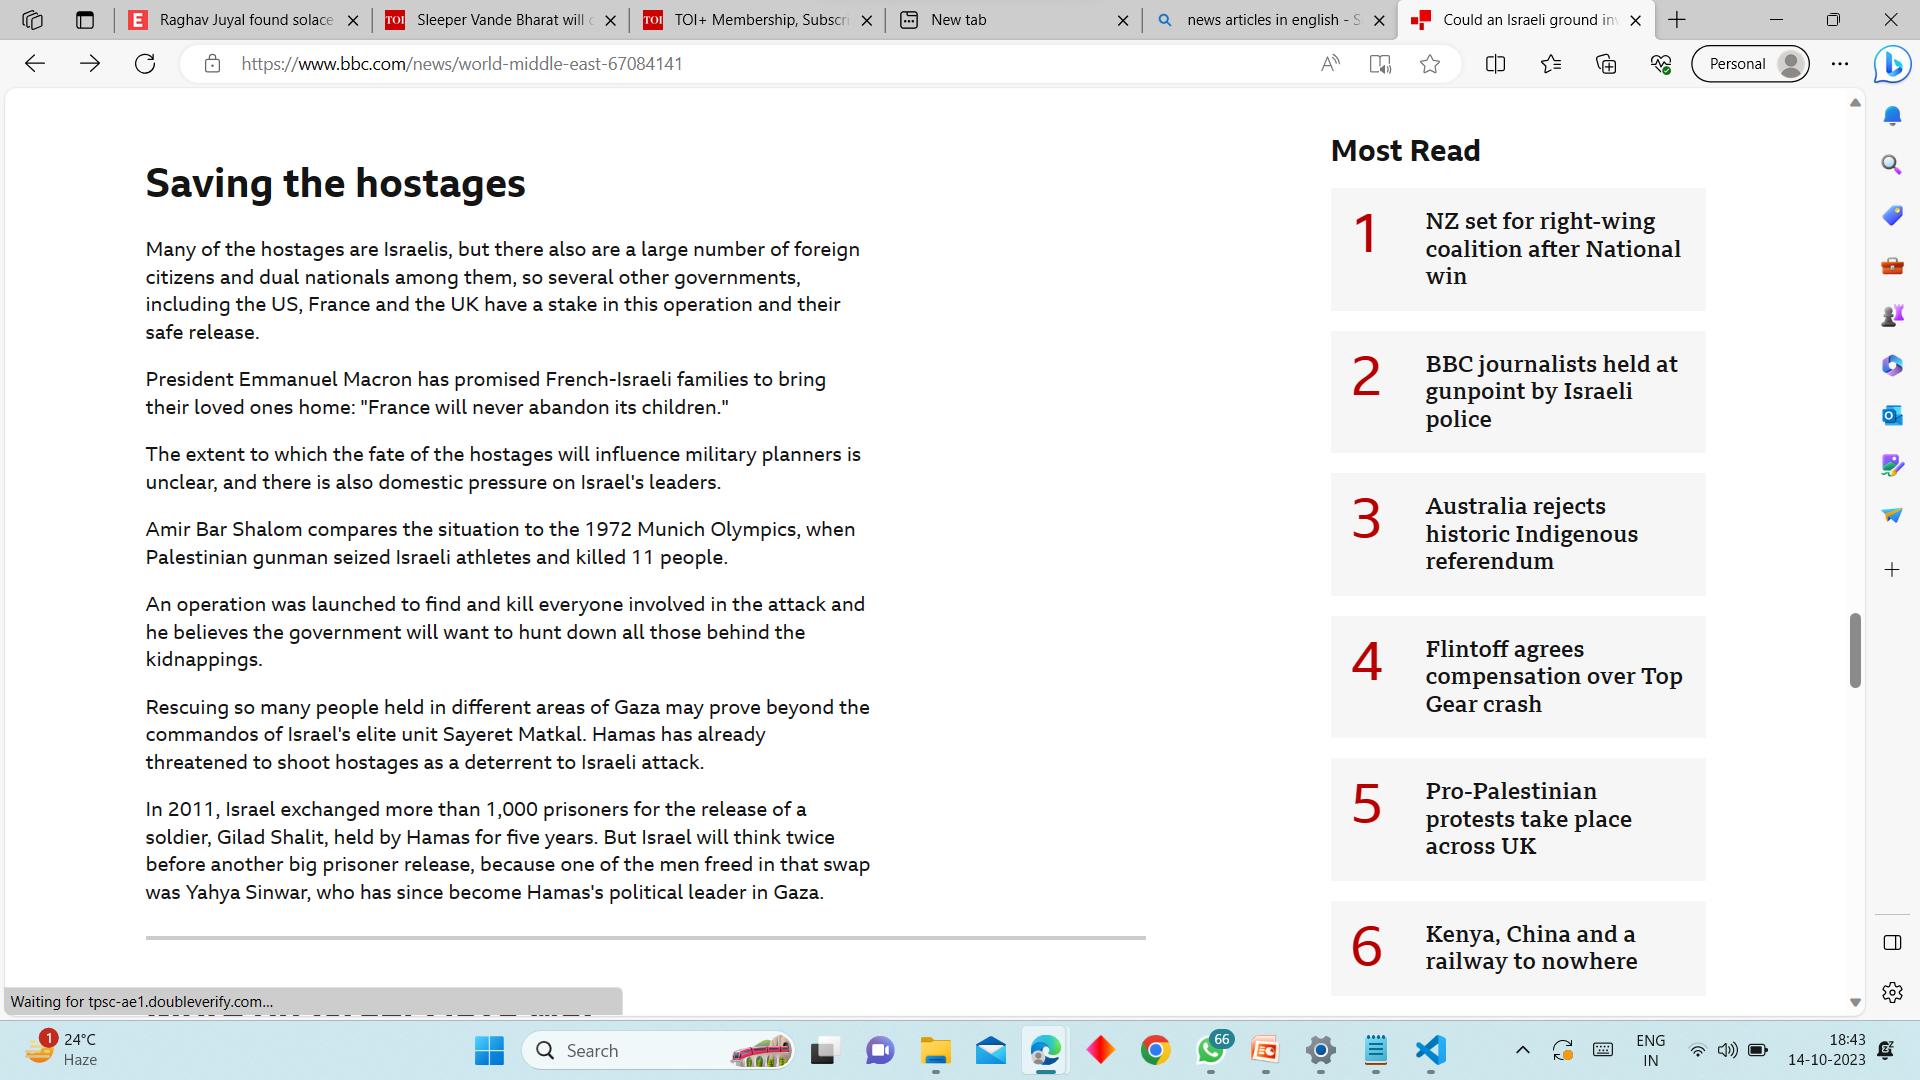Paragraph: (136, 785, 874, 915), (148, 232, 870, 340), (144, 585, 885, 687), (141, 687, 874, 781), (138, 436, 878, 508), (136, 517, 870, 579), (132, 364, 870, 425), (1340, 187, 1695, 311), (1344, 765, 1675, 878), (1344, 342, 1691, 443), (1357, 628, 1700, 727), (1341, 907, 1681, 1002), (1341, 489, 1668, 585), (138, 161, 530, 212), (1319, 121, 1489, 179)
